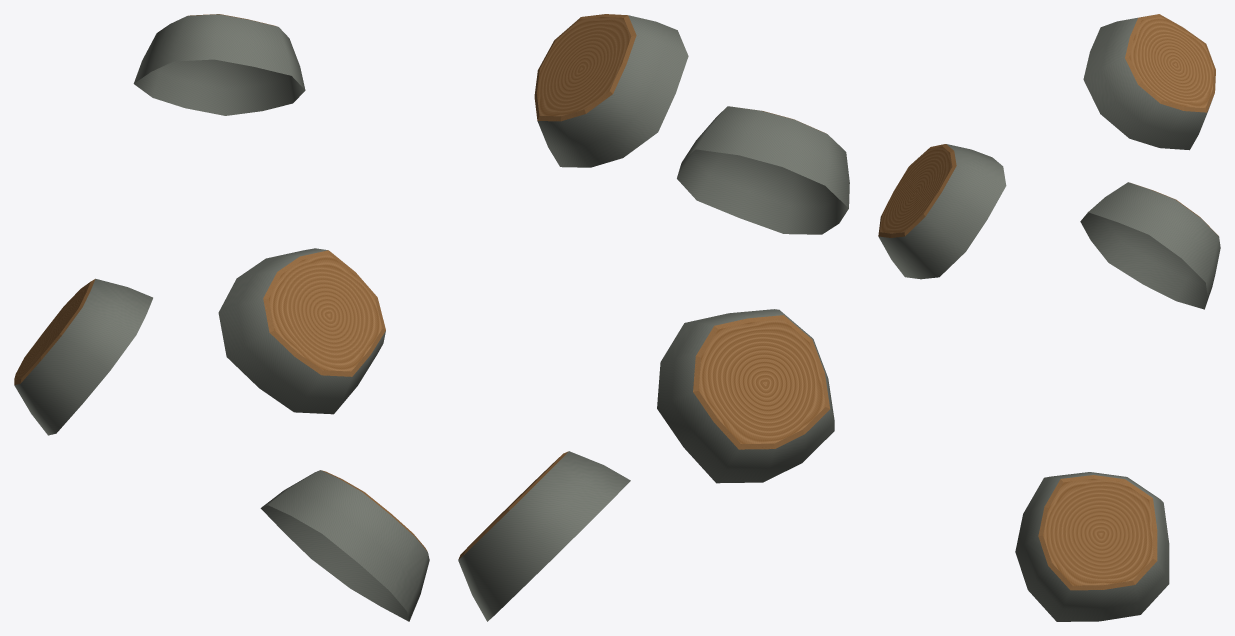
File: Beech_Mature_01_LowPruned_Recent_LOD1.fbx
The picture shows the model from 3 angles, left to right: view 1: azimuth 30°, elevation 25°; view 2: azimuth 150°, elevation 25°; view 3: azimuth 270°, elevation 25°; orthographic projection. The views are drawn at different scales.
Parts seen in each view (by area): view 1: Beech_Mature_01_LowPruned_Recent_LOD1_Scars; view 2: Beech_Mature_01_LowPruned_Recent_LOD1_Scars; view 3: Beech_Mature_01_LowPruned_Recent_LOD1_Scars.
Part boxes in pixels (left/top/right/bottom): Beech_Mature_01_LowPruned_Recent_LOD1_Scars: left=14, top=14, right=429, bottom=621; Beech_Mature_01_LowPruned_Recent_LOD1_Scars: left=458, top=14, right=849, bottom=621; Beech_Mature_01_LowPruned_Recent_LOD1_Scars: left=878, top=14, right=1220, bottom=621.
Size of what is drawn, in the model's own units: 149 by 236 by 135.
Materials: 2 (2 with a texture image).
